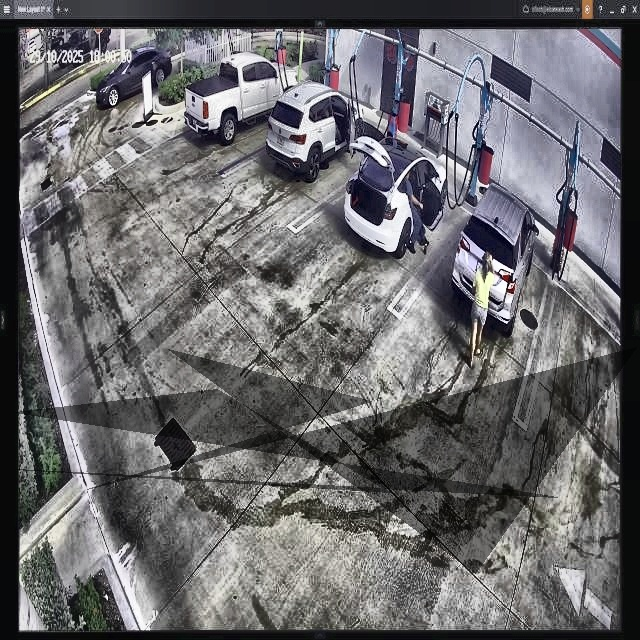Car: (454, 186, 535, 336), (345, 134, 444, 254), (268, 86, 365, 182)
